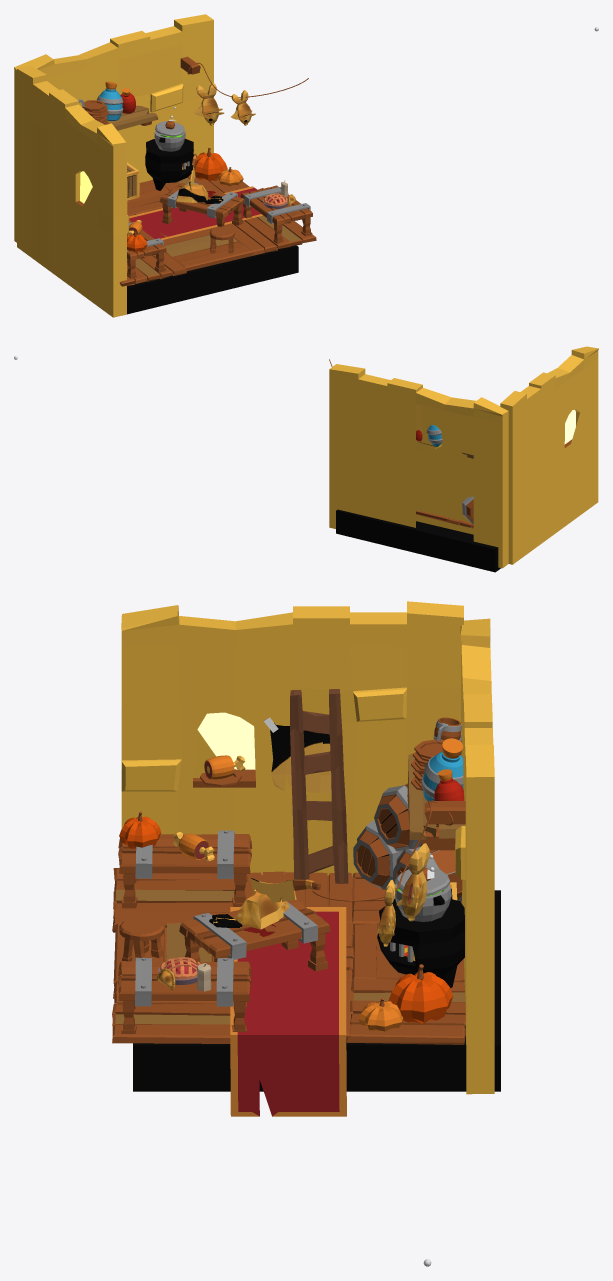
File: tavernkitchenfbx.fbx
The picture shows the model from 3 angles, top to bottom: view 1: azimuth 30°, elevation 25°; view 2: azimuth 150°, elevation 25°; view 3: azimuth 270°, elevation 25°; orthographic projection. The views are drawn at different scales.
Parts seen in each view (by area): view 1: wall, wall.001, wooden_floor, Plane.013, carpet, table2.001, oven, table1, table2, pumpkin, fish, mana_pot (+6 smaller); view 2: wall.001, wall, Plane.013; view 3: wall, carpet, wooden_floor, wall.001, Plane.013, Plane.005, table2, table2.001, table1, oven, wood, pumpkin (+15 smaller).
Part boxes in pixels (<box>): wall: <box>17,65,129,317</box>; wall.001: <box>14,14,213,242</box>; wooden_floor: <box>119,174,316,286</box>; Plane.013: <box>127,245,298,314</box>; carpet: <box>129,186,262,239</box>; table2.001: <box>240,185,312,243</box>; oven: <box>145,138,193,190</box>; table1: <box>159,182,244,226</box>; table2: <box>127,220,166,278</box>; pumpkin: <box>194,148,227,181</box>; fish: <box>193,82,224,125</box>; mana_pot: <box>97,81,123,120</box>; wall.001: <box>329,364,508,568</box>; wall: <box>500,346,598,564</box>; Plane.013: <box>336,509,500,572</box>; wall: <box>121,601,463,878</box>; carpet: <box>230,907,346,1116</box>; wooden_floor: <box>112,868,465,1044</box>; wall.001: <box>454,618,494,1094</box>; Plane.013: <box>133,890,500,1091</box>; Plane.005: <box>290,689,348,883</box>; table2: <box>118,830,252,908</box>; table2.001: <box>117,957,251,1033</box>; table1: <box>179,899,330,971</box>; oven: <box>377,899,464,987</box>; wood: <box>240,871,461,925</box>; pumpkin: <box>388,964,452,1024</box>.
Size of the model in its own units: 3065 by 978 by 1015.
Materials: 32 (5 with a texture image).
